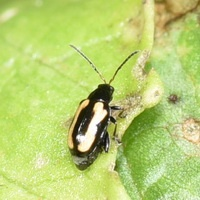insect: (68, 45, 138, 169)
